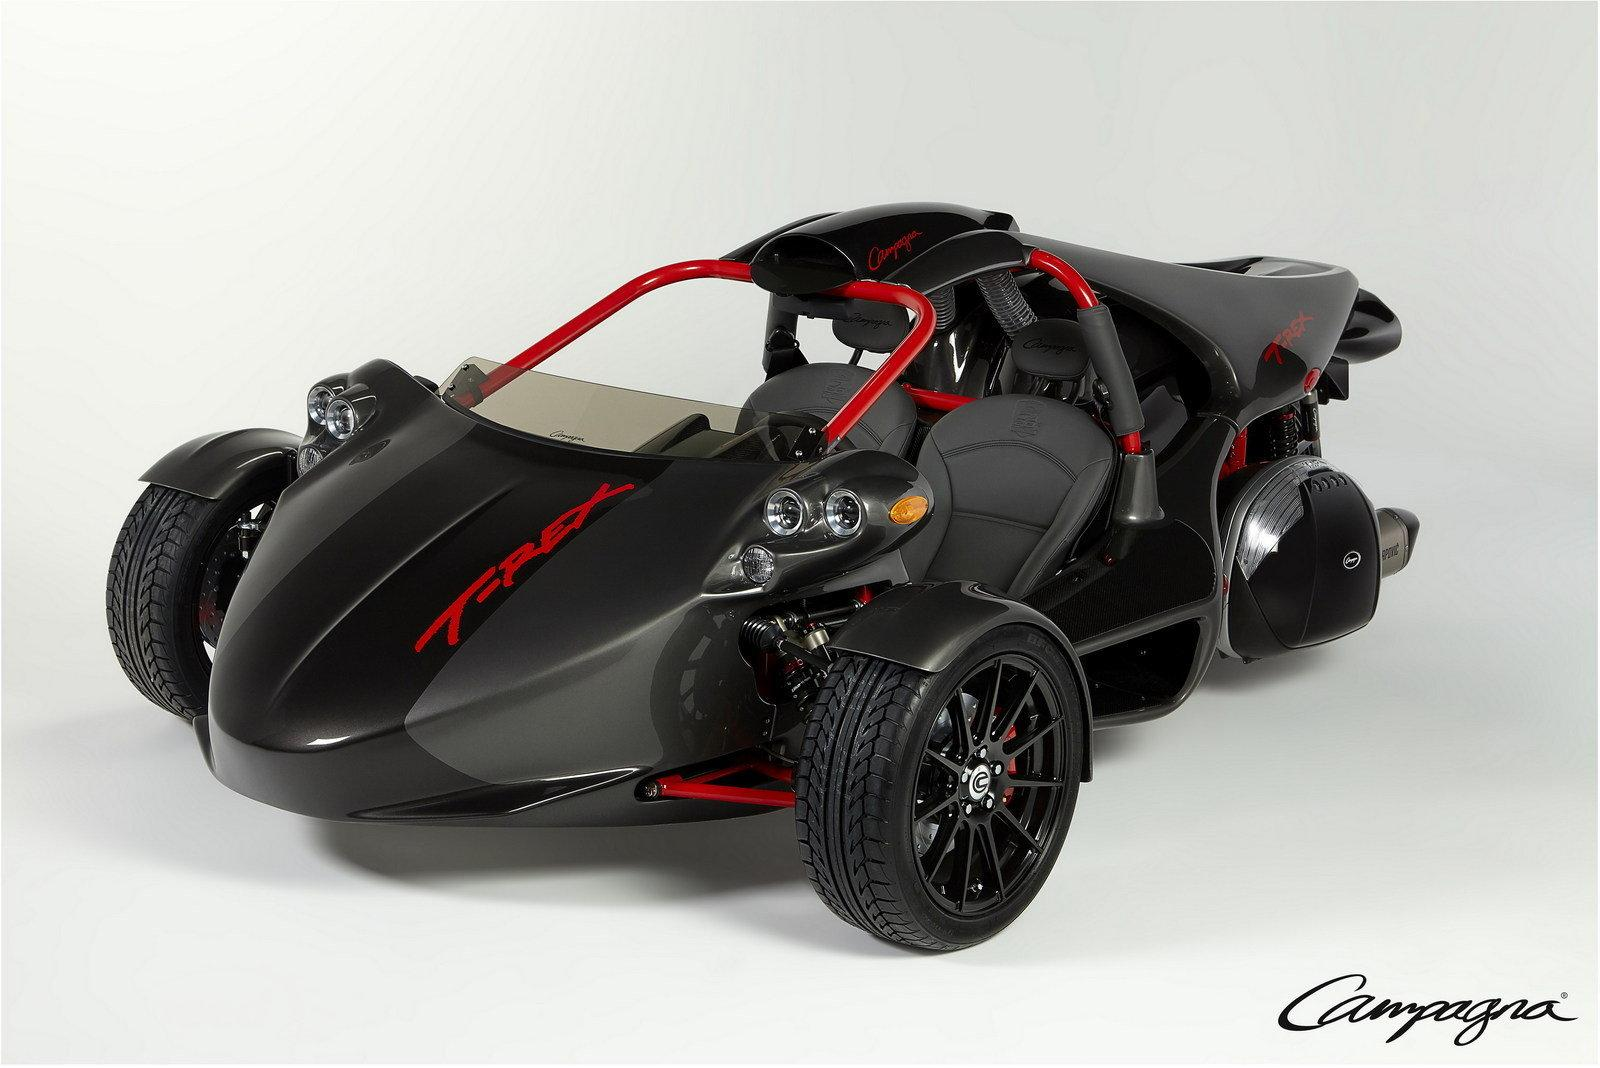Motorcycle: (104, 193, 1470, 958)
